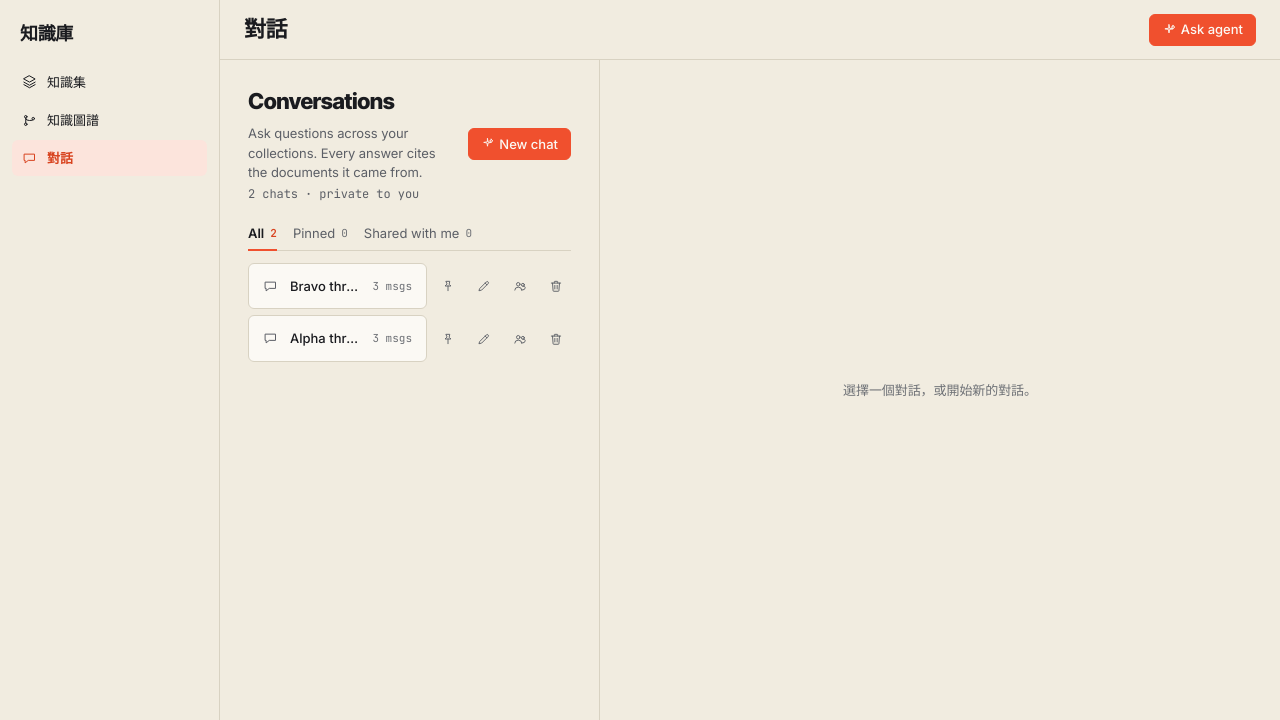
KB routes › shows the conversation you clicked — one click, not two
The width and height of the screenshot is (1280, 720).
Click the button "Bravo thread 3 msgs" at (338, 286), box [248,263,427,309]
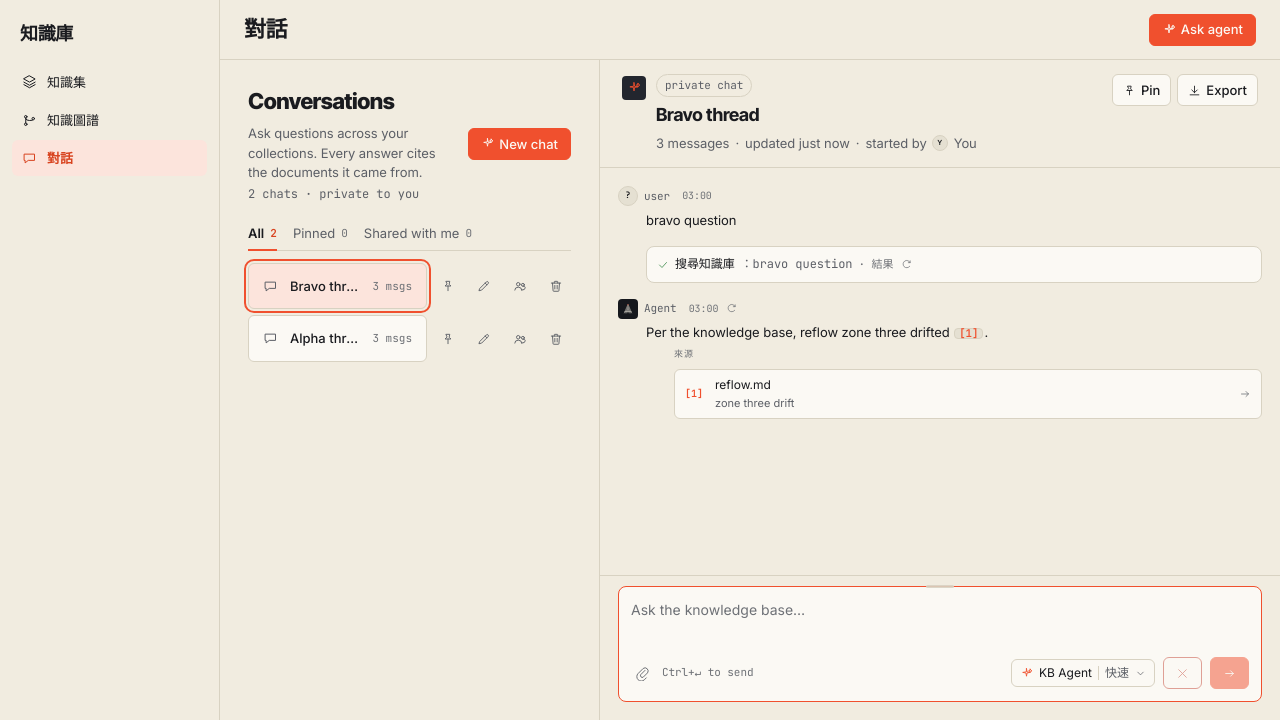
Now the text "bravo question" is shown, box [646,212,736,228]
Click the button "Alpha thread 3 msgs" at (338, 339), box [248,316,427,362]
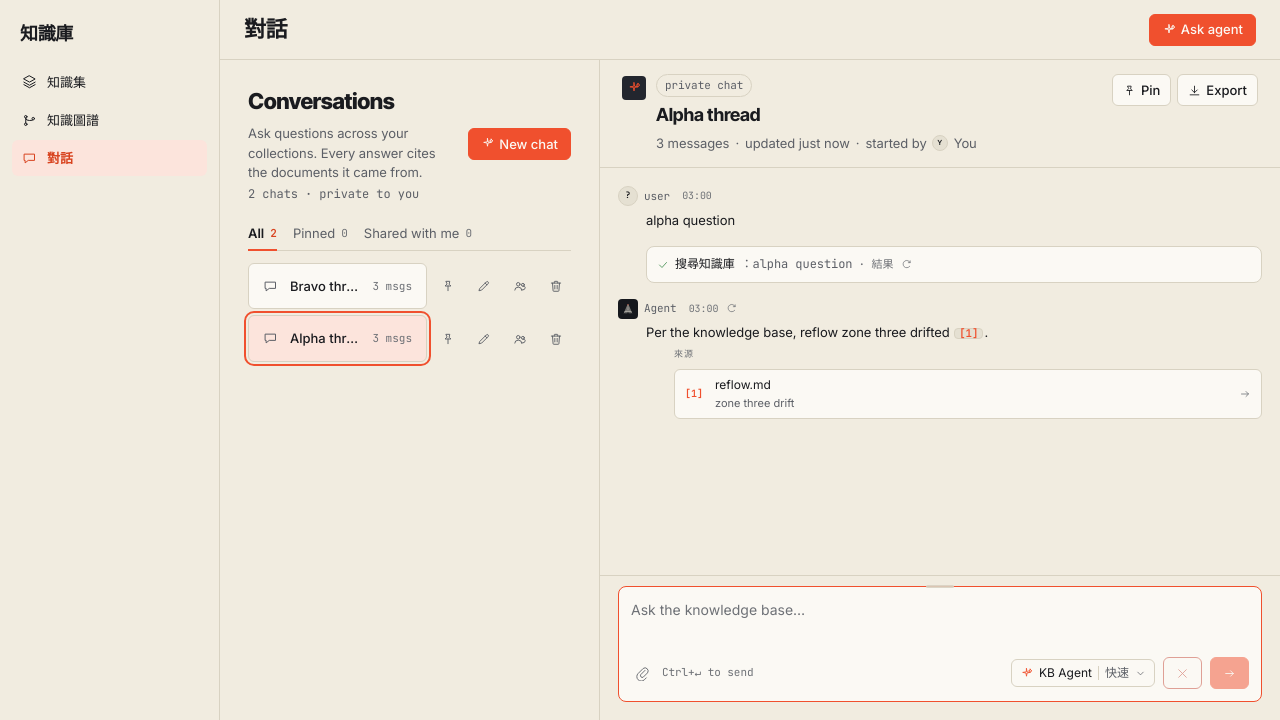
Now the text "alpha question" is shown, box [646,212,735,228]
Now the text "bravo question" is gone
